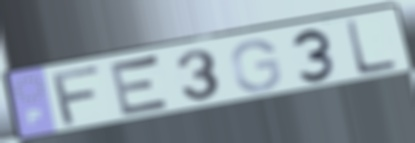3: (290, 27, 336, 86), (174, 49, 222, 104)
E: (107, 53, 174, 120)
F: (51, 63, 106, 130)
G: (228, 38, 284, 94)
L: (343, 18, 399, 79)
